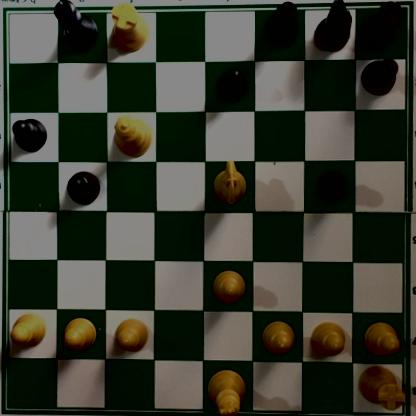black-bishop: (261, 1, 302, 53)
black-king: (50, 1, 98, 57)
black-knight: (314, 1, 354, 54)
black-pawn: (312, 169, 351, 205), (362, 57, 398, 95), (213, 66, 247, 105), (11, 118, 48, 153), (65, 169, 100, 204)
black-rook: (355, 1, 404, 54)
white-king: (205, 368, 247, 416)
white-knight: (212, 157, 248, 208)
white-pawn: (258, 317, 297, 357), (60, 315, 99, 354), (359, 319, 402, 354), (8, 310, 48, 347), (210, 267, 248, 303), (113, 316, 150, 352), (310, 322, 346, 358)
white-queen: (111, 114, 154, 160)
white-rook: (354, 361, 406, 411), (105, 1, 148, 54)
